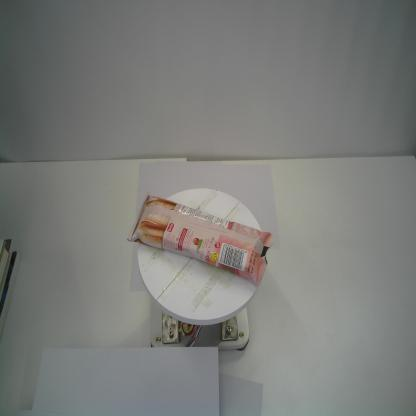Dessert: (126, 191, 276, 287)
